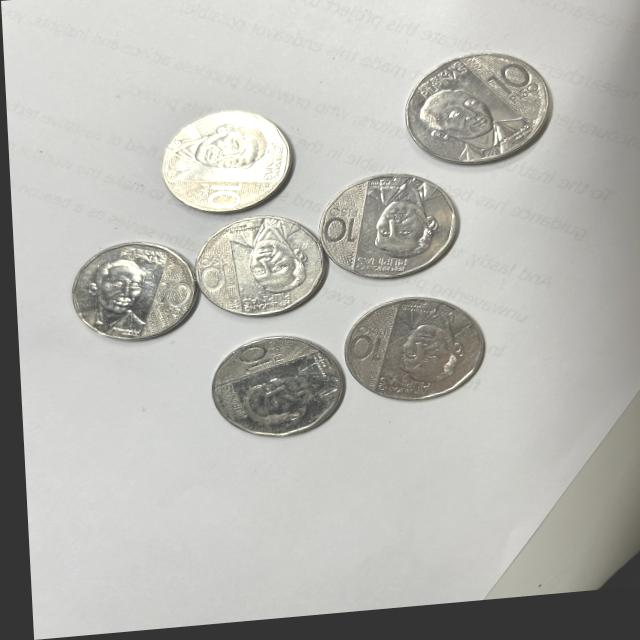10_New_Front: (472, 62, 540, 119), (186, 174, 243, 218), (223, 339, 282, 379), (149, 277, 192, 330), (192, 254, 236, 303), (341, 326, 383, 375), (321, 201, 357, 253)
